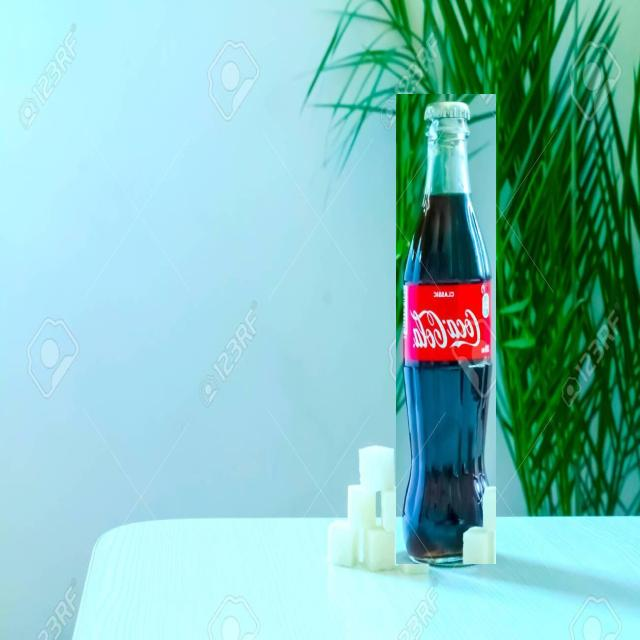coca-cola: (396, 94, 496, 564)
